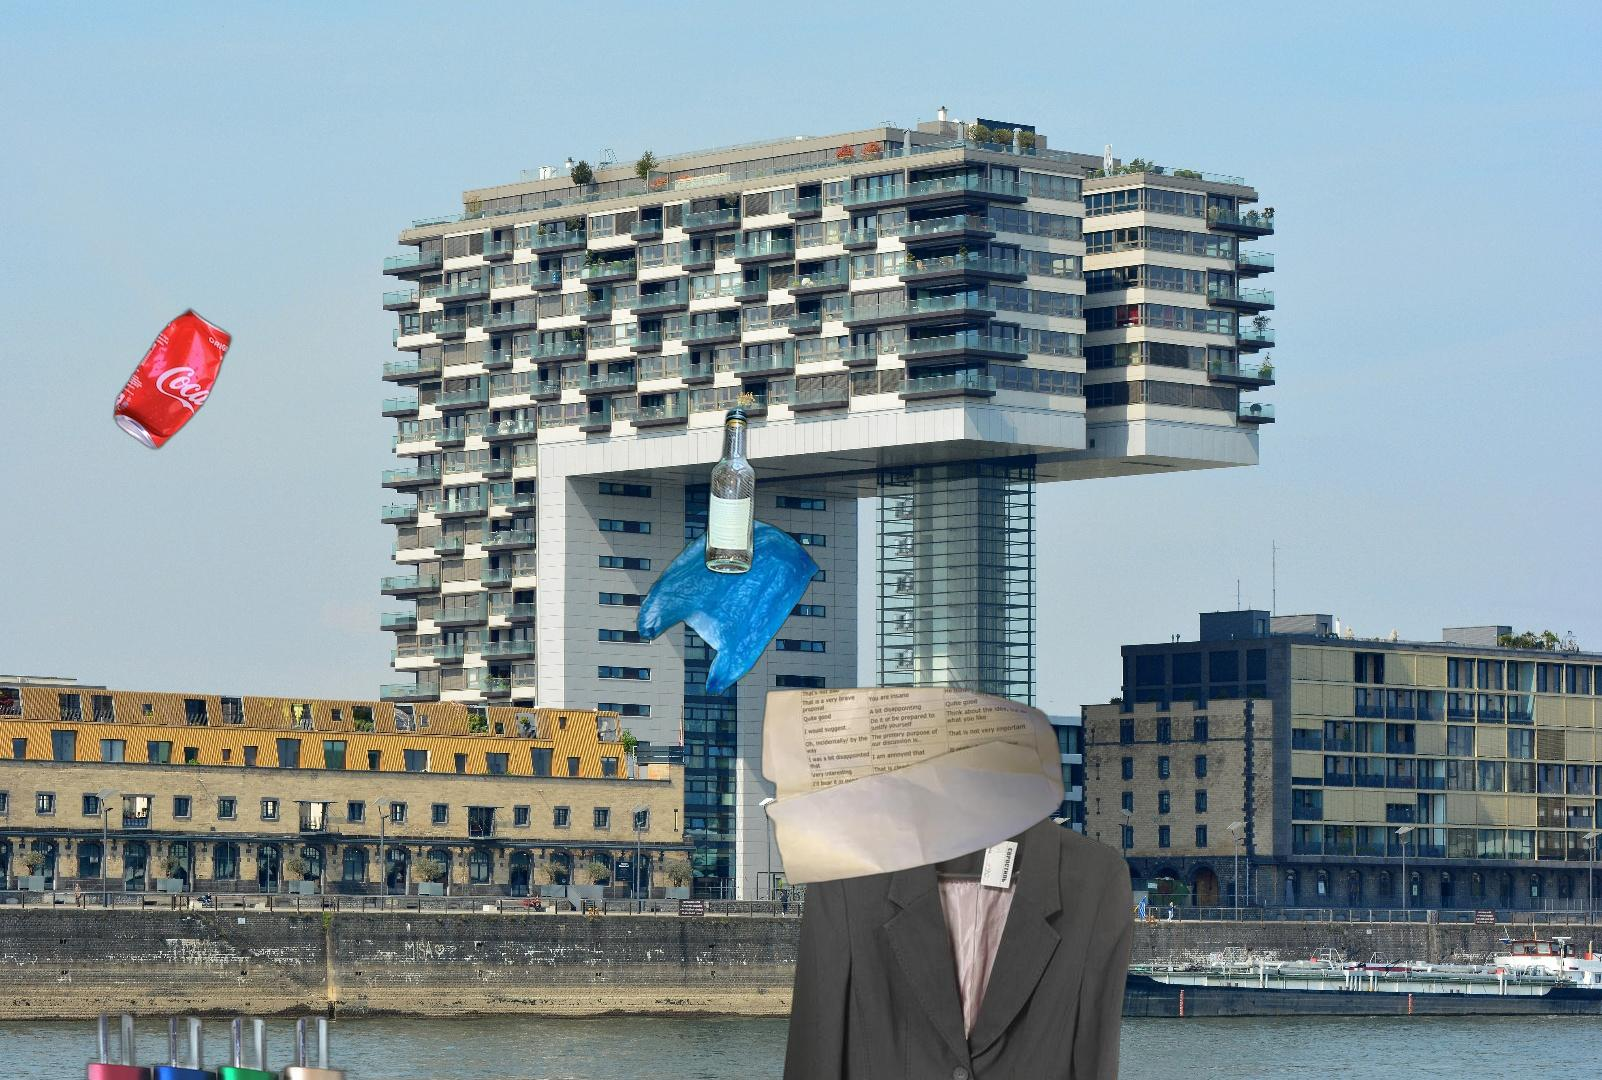clothes: (762, 756, 1137, 1080)
glass: (700, 403, 759, 580)
metal-cans: (110, 303, 236, 456)
paper: (757, 683, 1070, 888), (1468, 295, 1602, 679)
penholder: (69, 1000, 711, 1080)
plastic-bag: (630, 505, 823, 709)
